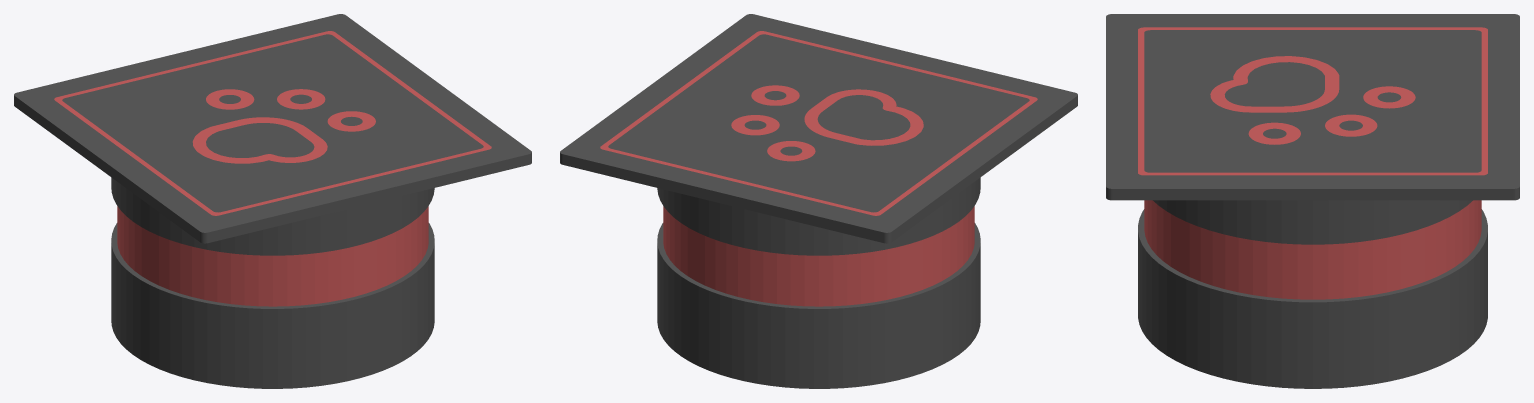
The model's file is bomboniera-veterinaria-facolta-montato.glb.
3 renders of one model, left to right at view 1: azimuth 30°, elevation 25°; view 2: azimuth 150°, elevation 25°; view 3: azimuth 270°, elevation 25°, orthographic. The views are drawn at different scales.
Visible parts, largest first — view 1: struttura_coperchio, struttura_base, fascia, simbolo_intarsio, bordo; view 2: struttura_coperchio, struttura_base, fascia, simbolo_intarsio, bordo; view 3: struttura_coperchio, struttura_base, fascia, simbolo_intarsio, bordo.
Boxes of the visible parts, x1=… form: struttura_coperchio: x1=14, y1=14, x2=531, y2=255; struttura_base: x1=111, y1=223, x2=434, y2=388; fascia: x1=117, y1=206, x2=428, y2=306; simbolo_intarsio: x1=192, y1=89, x2=375, y2=163; bordo: x1=54, y1=31, x2=491, y2=215; struttura_coperchio: x1=560, y1=14, x2=1077, y2=255; struttura_base: x1=657, y1=223, x2=980, y2=388; fascia: x1=663, y1=206, x2=974, y2=306; simbolo_intarsio: x1=731, y1=85, x2=923, y2=161; bordo: x1=600, y1=31, x2=1037, y2=215; struttura_coperchio: x1=1106, y1=14, x2=1519, y2=244; struttura_base: x1=1138, y1=209, x2=1487, y2=388; fascia: x1=1144, y1=200, x2=1481, y2=299; simbolo_intarsio: x1=1210, y1=56, x2=1415, y2=144; bordo: x1=1138, y1=27, x2=1487, y2=175.
Bounding box in the file's own units: 0.065 × 0.037 × 0.065.
